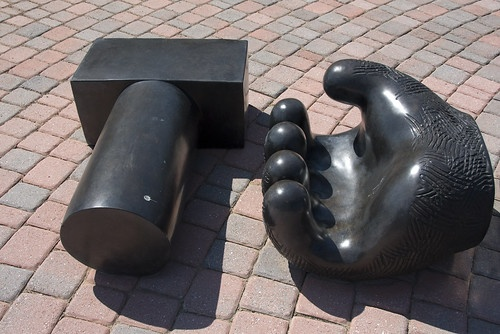hammer: (54, 31, 252, 280)
